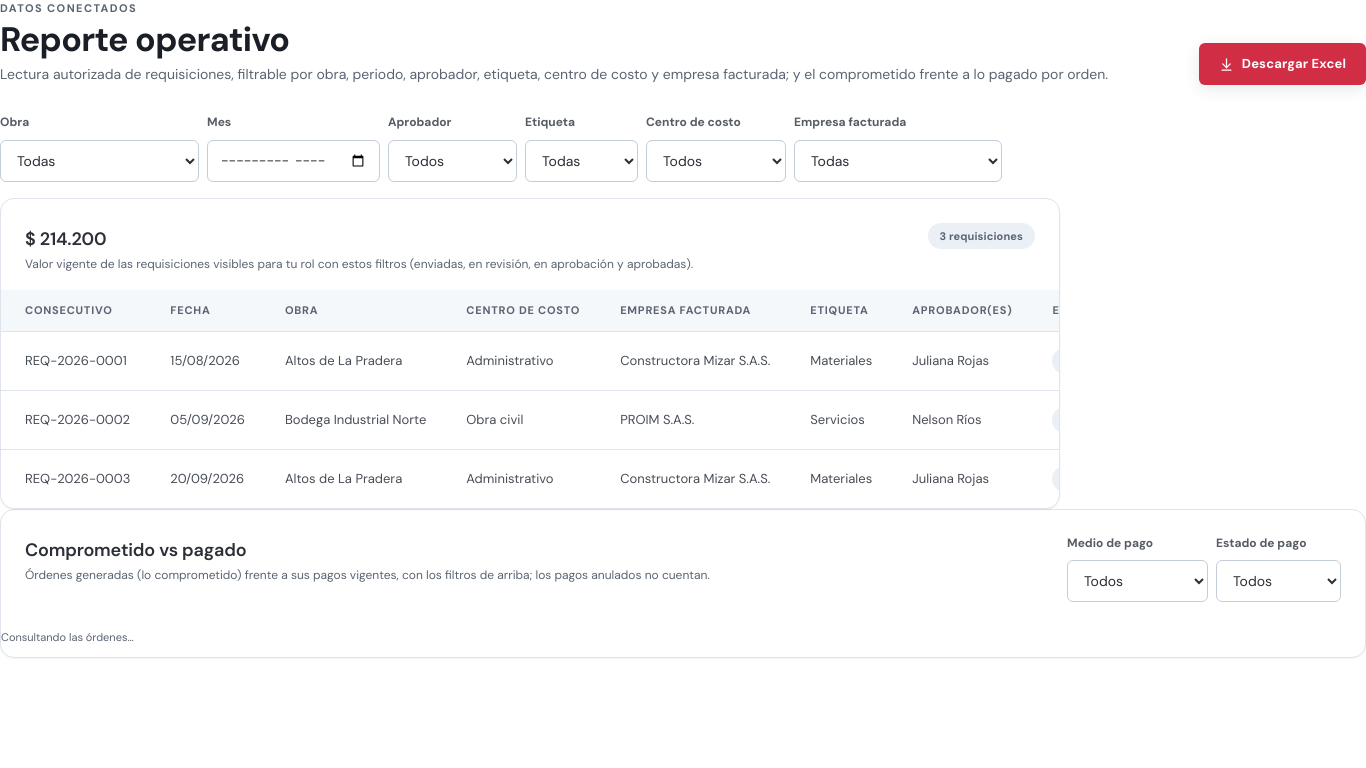
Test case: RF-1301: filtros de Reportes mandan los parámetros correctos (pantalla + descarga) › filtra por obra ocultando filas de otras obras, y el enlace de descarga lleva workId
The width and height of the screenshot is (1366, 768).
Expected: the text "REQ-2026-0001" is shown, [1,331,150,390]
Expected: the text "REQ-2026-0002" is shown, [1,390,150,449]
Select "Altos de La Pradera" in the dropdown labelled "Obra" at (100, 161), box [0,140,199,182]
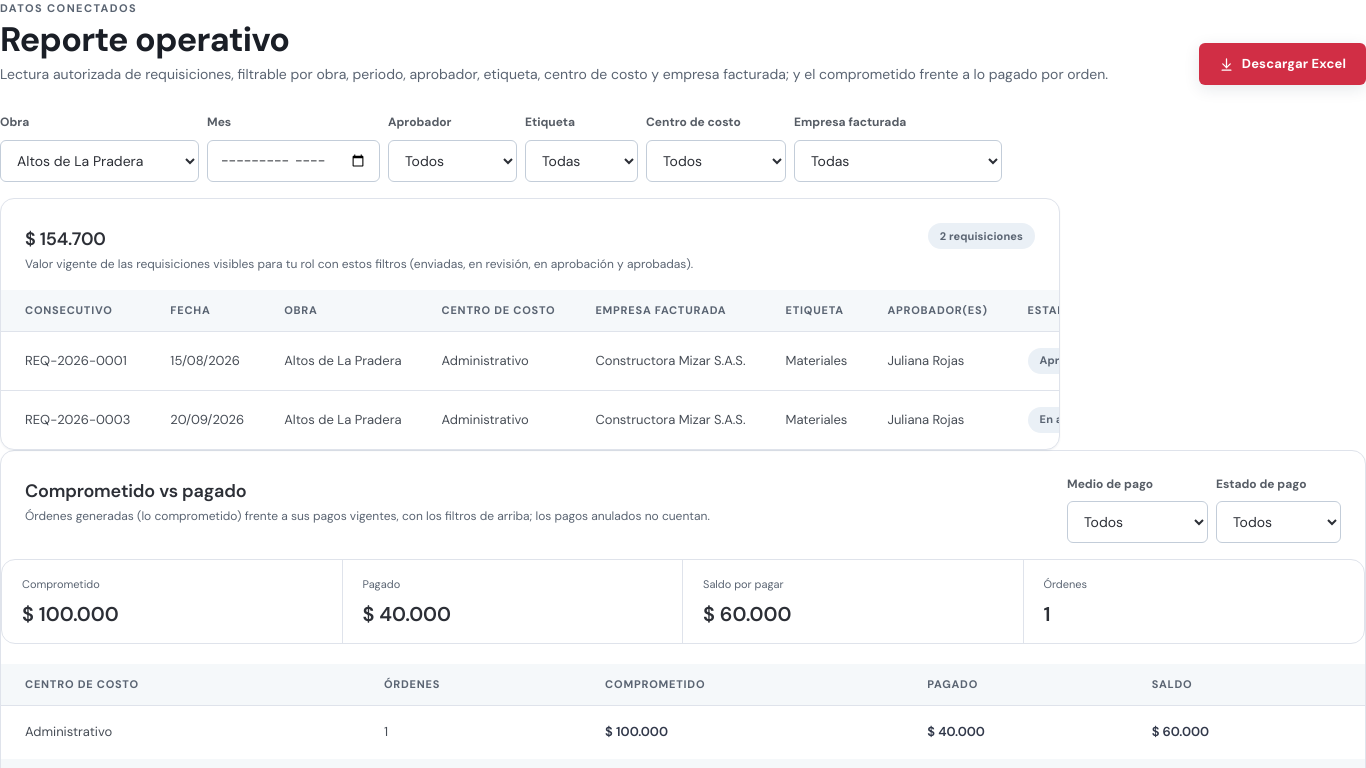
Expected: the text "REQ-2026-0001" is shown, [1,331,150,390]
Now the text "REQ-2026-0002" is gone
